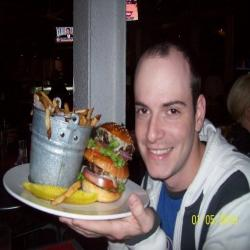burger: (79, 120, 138, 206)
fries: (25, 86, 106, 140)
